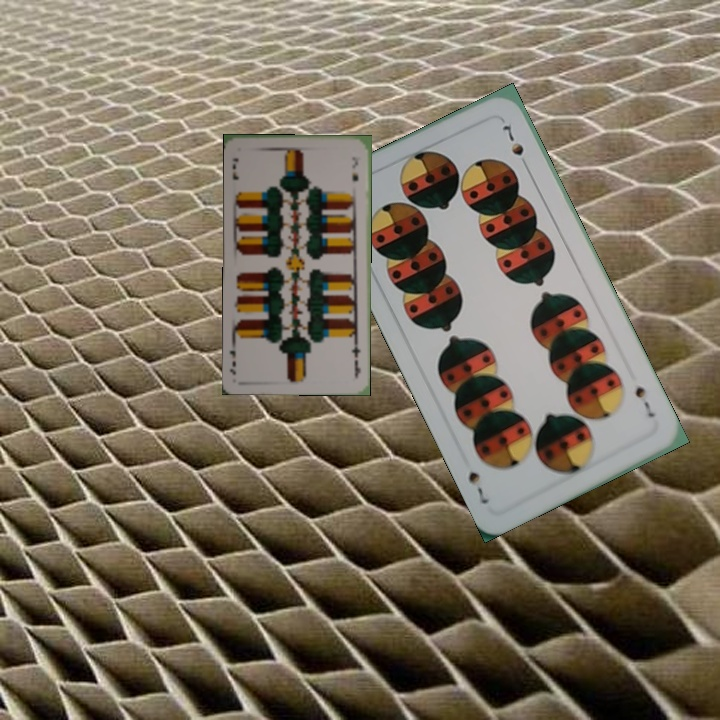E7: (348, 338, 363, 379), (228, 154, 241, 182)
S7: (631, 382, 658, 420)
